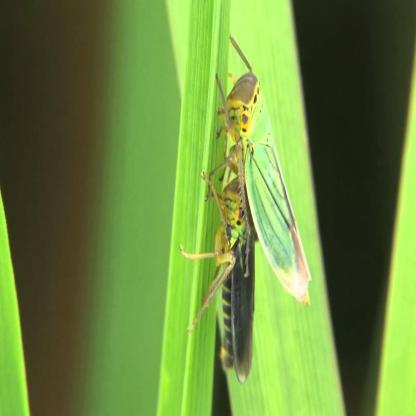Green-Leafhopper: (214, 37, 314, 303), (179, 155, 267, 386)
